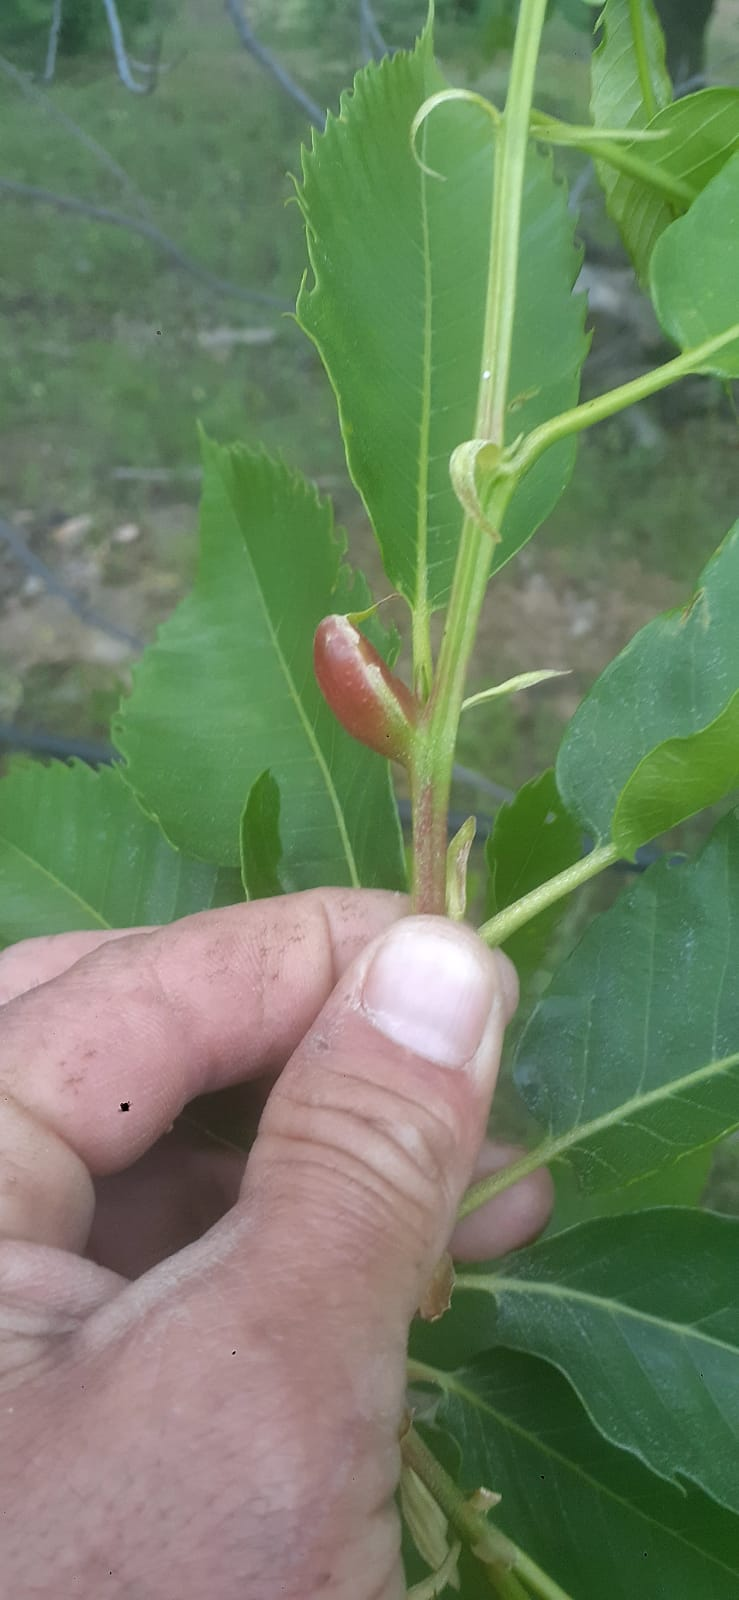galarisi: (292, 590, 451, 820)
